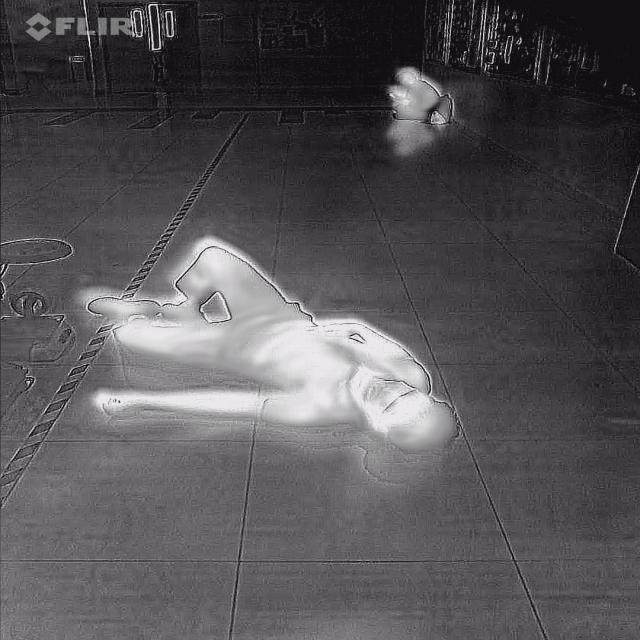Victim: (76, 232, 458, 456), (377, 60, 465, 134)
